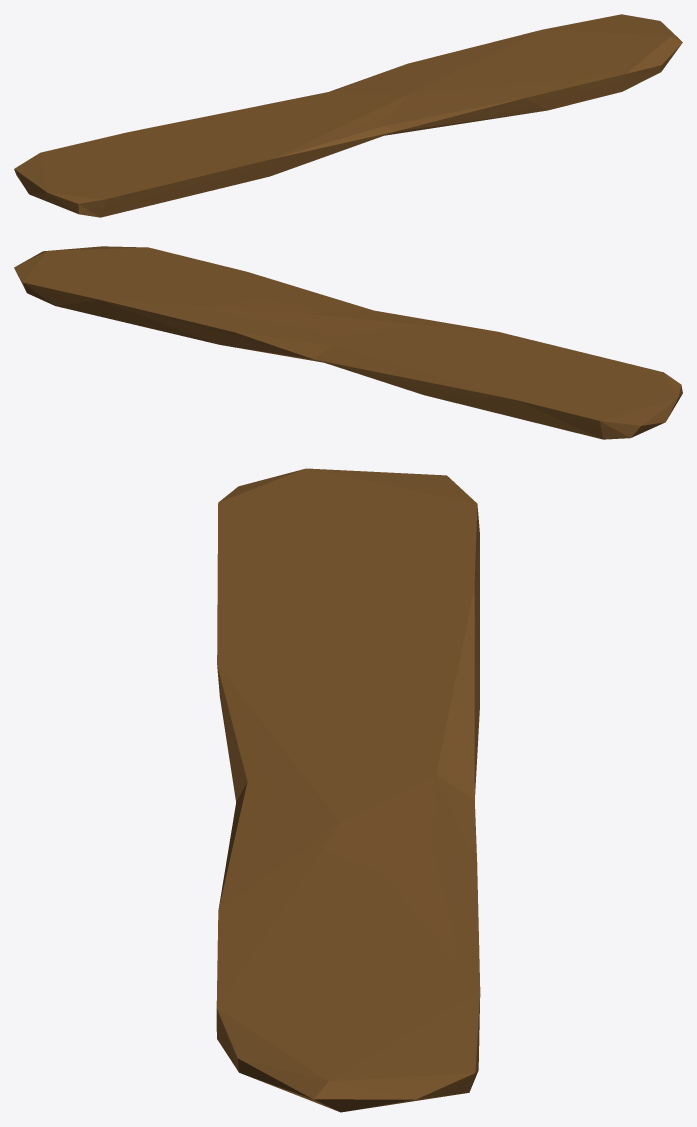
The model's file is Board_01.fbx.
3 views of the same model, one above another, from view 1: azimuth 30°, elevation 25°; view 2: azimuth 150°, elevation 25°; view 3: azimuth 270°, elevation 25° (orthographic). The views are drawn at different scales.
Visible parts, largest first — view 1: Board_01; view 2: Board_01; view 3: Board_01.
Boxes of the visible parts, x1,y1,x2,y2 form: Board_01: (14,14,682,217); Board_01: (14,246,682,439); Board_01: (216,468,480,1112).
Size of the model in its own units: 178 by 5.38 by 31.81.
